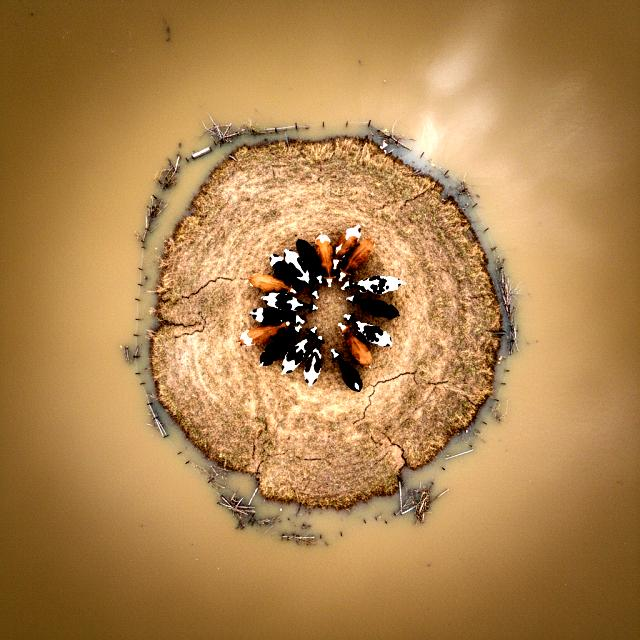cow: (254, 314, 305, 374), (233, 316, 302, 350), (280, 247, 323, 301), (334, 322, 378, 373), (336, 231, 378, 284), (280, 322, 318, 380), (342, 314, 398, 352), (326, 347, 366, 397), (343, 295, 409, 323), (289, 236, 325, 287), (265, 249, 305, 294), (340, 275, 410, 299), (258, 292, 326, 316), (332, 222, 362, 274), (300, 332, 326, 390), (245, 305, 313, 327), (241, 270, 297, 296), (313, 232, 335, 293)
